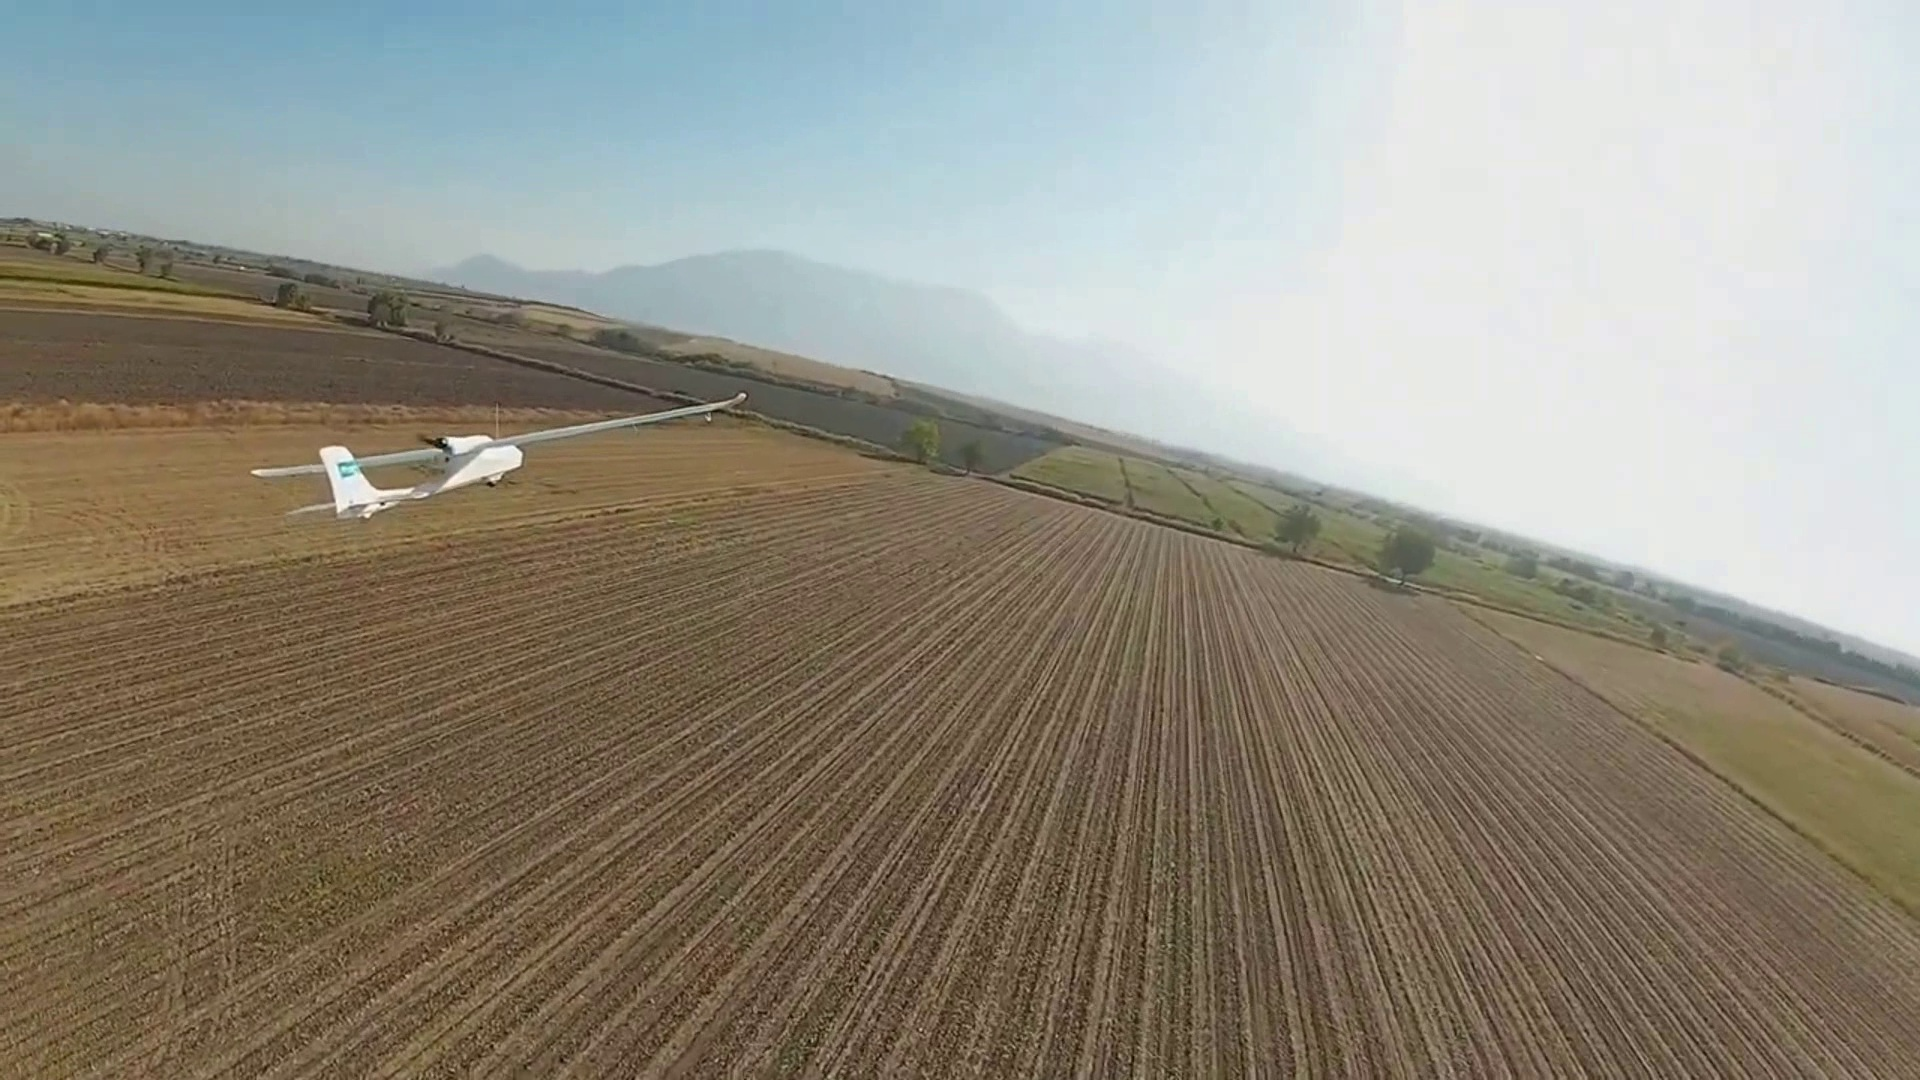airplane: (251, 433, 527, 524)
